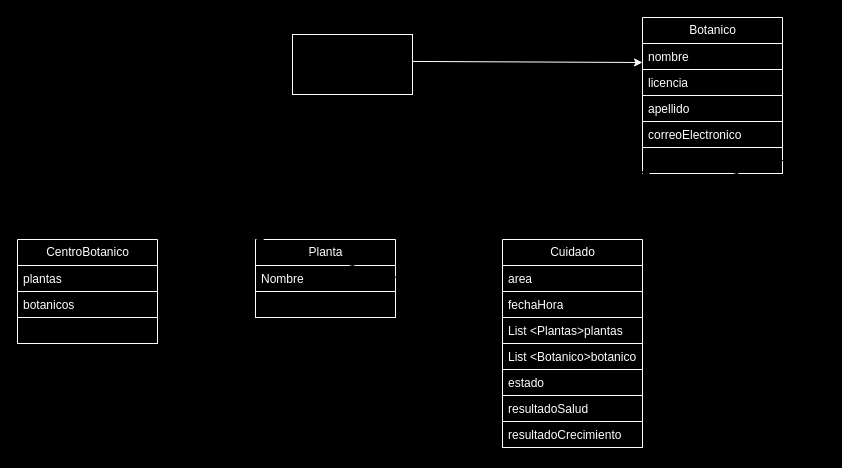
Some shapes in this 842 by 468 pixel diagram are drawn without their labels. Each missing label, with the centre of its shape:
"BotanicoEntrada" goes at point (352, 64).
"cuidados" goes at point (87, 330).
"numeroCelular" goes at point (712, 160).
"Tipo" goes at point (325, 304).
